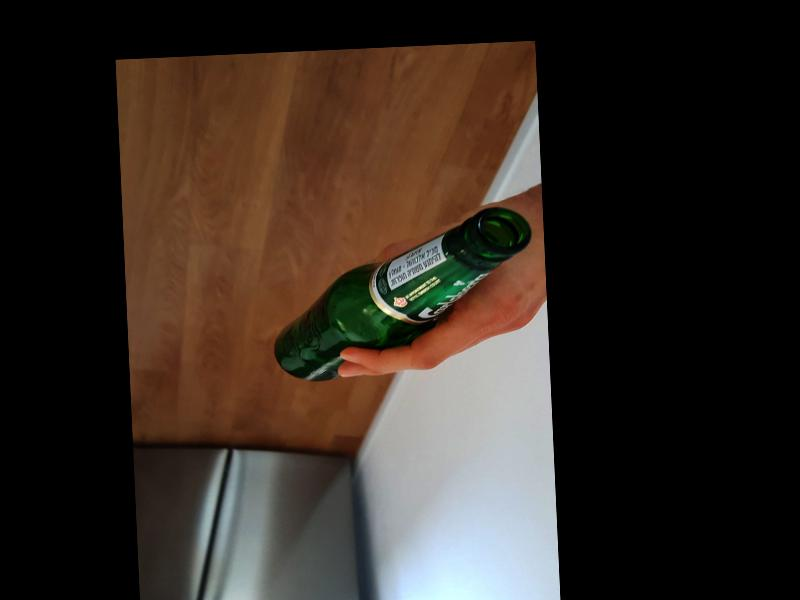Beer: (268, 204, 538, 382)
